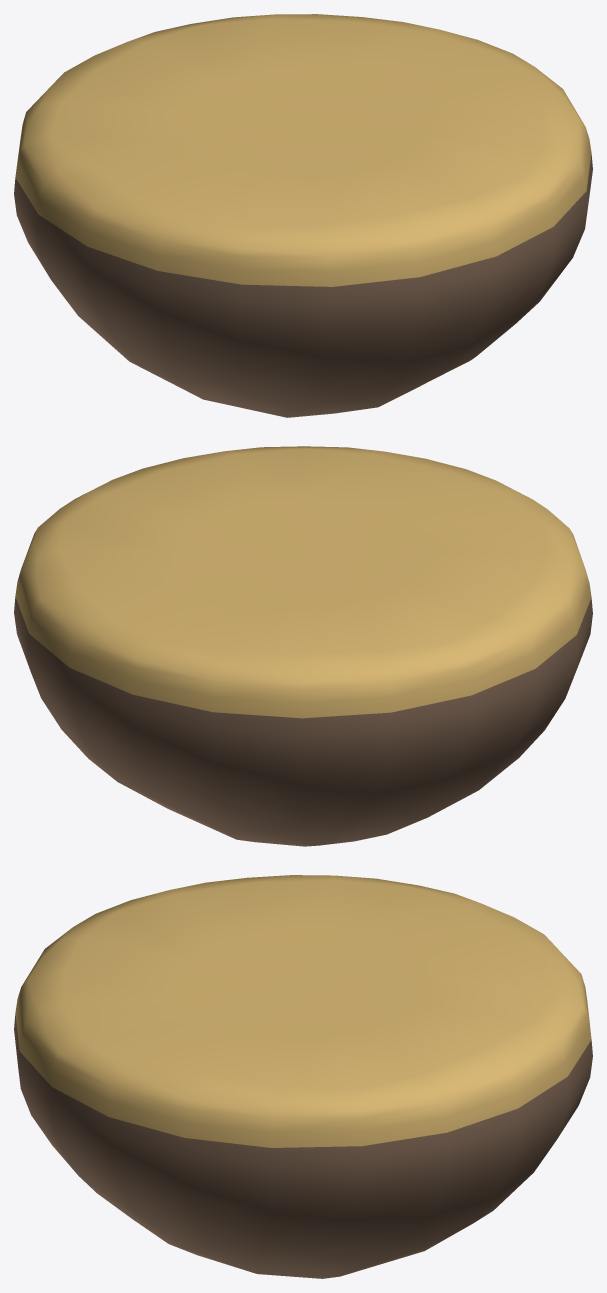
The model's file is SB_Island_01.fbx.
3 renders of one model, top to bottom at view 1: azimuth 30°, elevation 25°; view 2: azimuth 150°, elevation 25°; view 3: azimuth 270°, elevation 25°, orthographic.
Parts seen in each view (by area): view 1: SB_Island_01; view 2: SB_Island_01; view 3: SB_Island_01.
Part boxes in pixels (bbox=[...]): SB_Island_01: bbox=[14, 14, 592, 417]; SB_Island_01: bbox=[14, 446, 592, 846]; SB_Island_01: bbox=[14, 875, 592, 1278].
Bounding box in the file's own units: 17.64 × 9.2 × 17.63.
